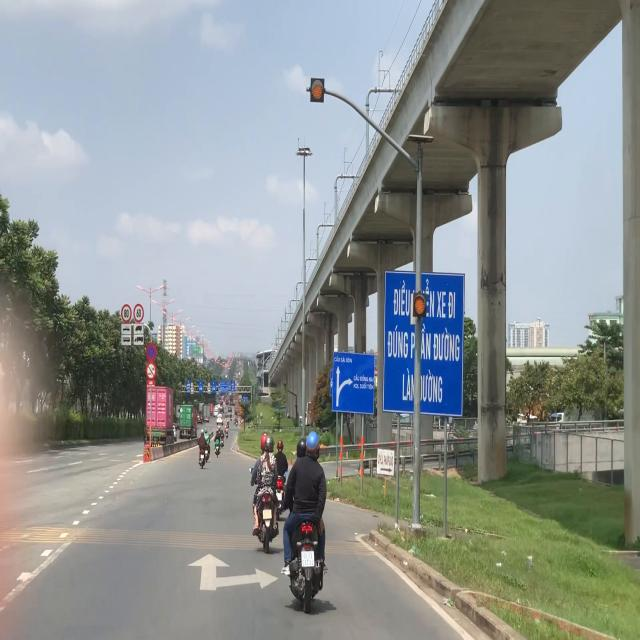Cam con lai: (146, 362, 156, 379)
Cam dung va do: (146, 342, 157, 362)
Toc do toi da: (133, 303, 144, 323), (121, 304, 132, 323)
